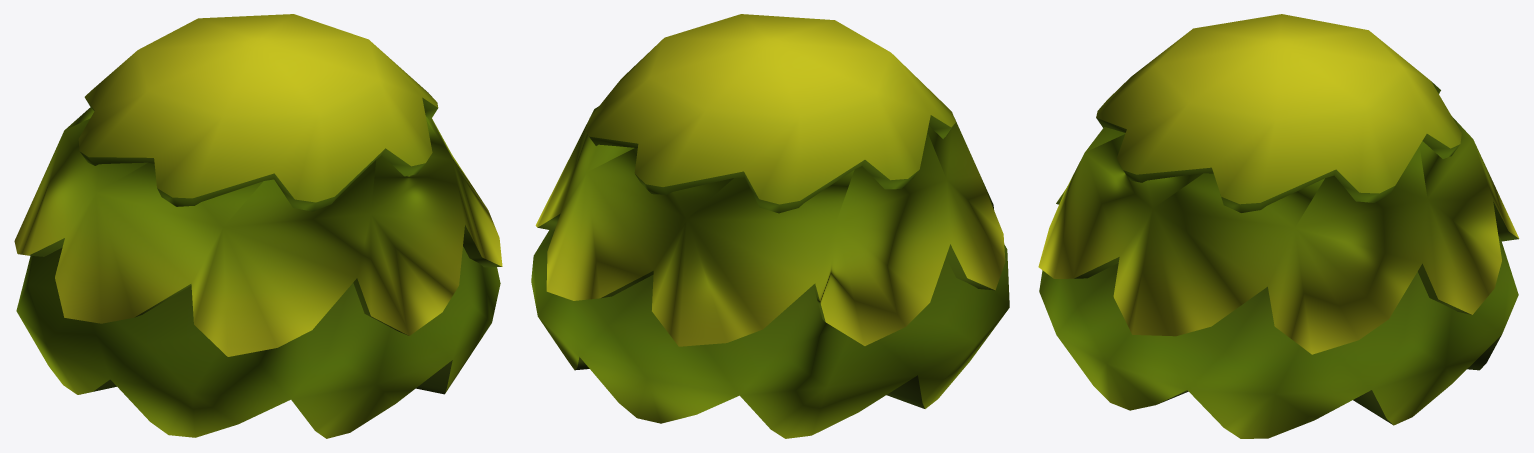
File: 1.100_SanFrancisco_bush_1.glb
3 renders of one model, left to right at view 1: azimuth 30°, elevation 25°; view 2: azimuth 150°, elevation 25°; view 3: azimuth 270°, elevation 25°, orthographic.
Visible parts, largest first — view 1: 1.100_SanFrancisco_bush_1; view 2: 1.100_SanFrancisco_bush_1; view 3: 1.100_SanFrancisco_bush_1.
Boxes of the visible parts, x1=… form: 1.100_SanFrancisco_bush_1: x1=14, y1=14, x2=502, y2=438; 1.100_SanFrancisco_bush_1: x1=531, y1=14, x2=1009, y2=438; 1.100_SanFrancisco_bush_1: x1=1038, y1=14, x2=1519, y2=438.
Size of the model in its own units: 15.42 by 11.01 by 15.42.
1 material, 1 textured.
